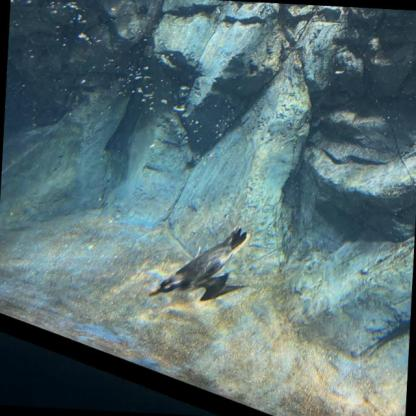puffin: (146, 220, 252, 305)
